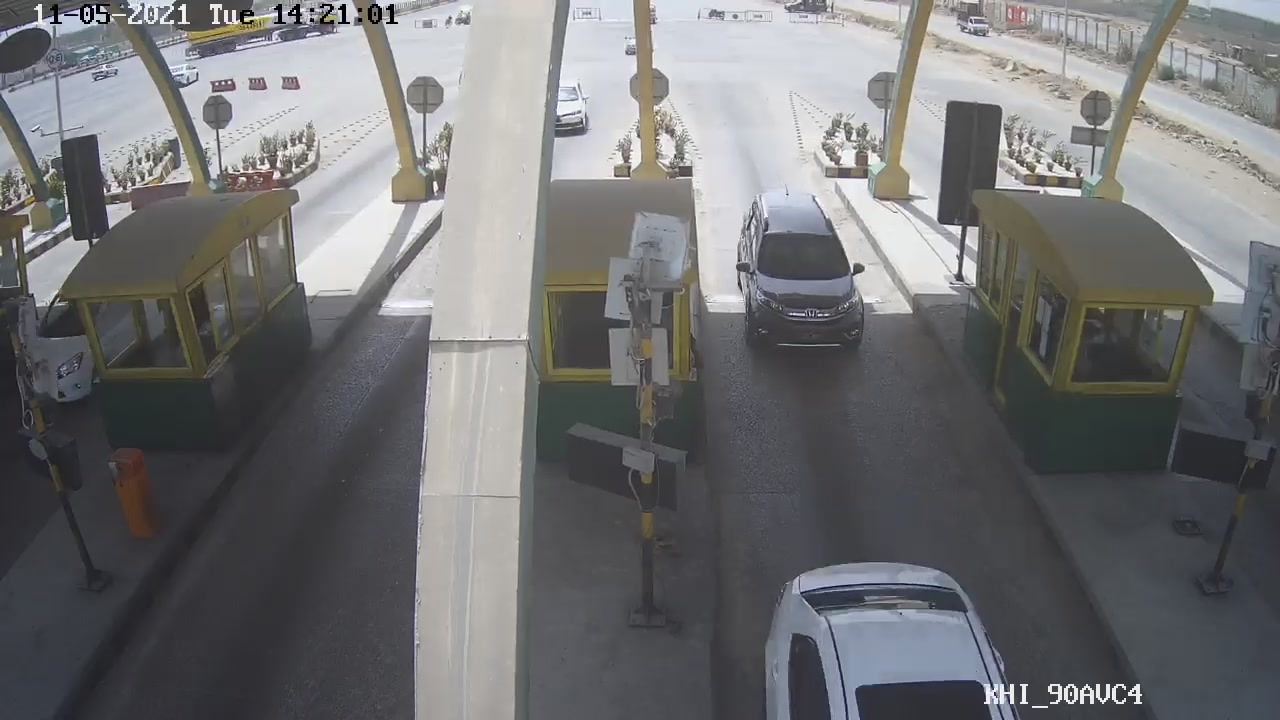F1: (733, 187, 873, 354)
